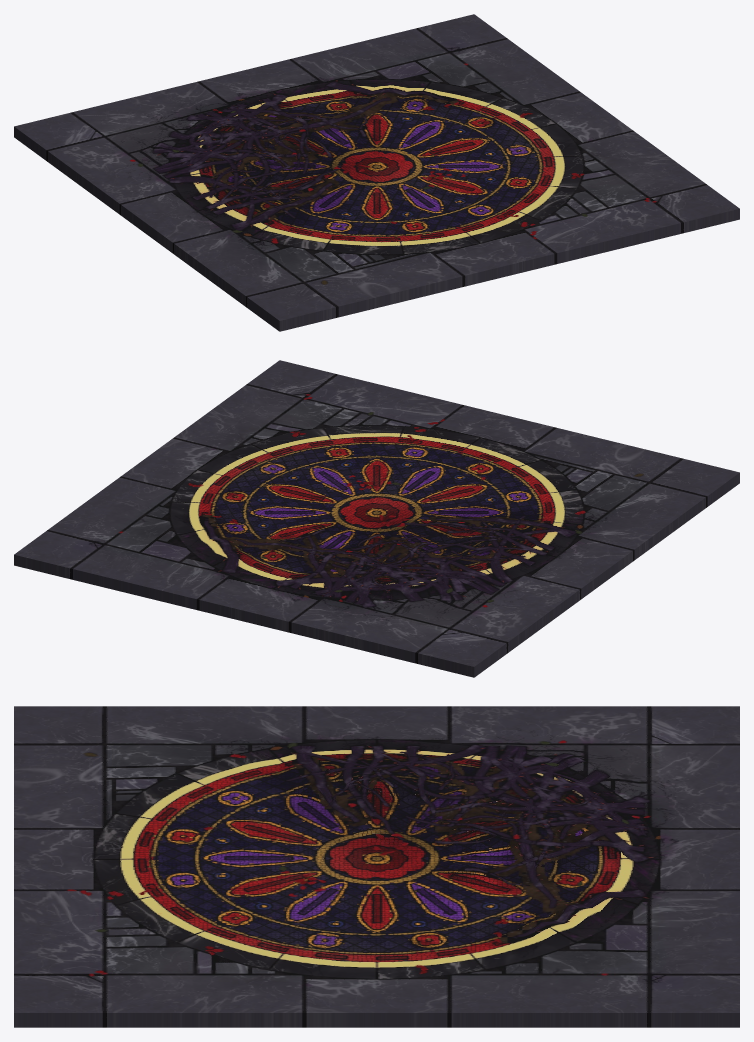
File: thorn_floor_c.glb
3 views of the same model, one above another, from view 1: azimuth 30°, elevation 25°; view 2: azimuth 150°, elevation 25°; view 3: azimuth 270°, elevation 25° (orthographic). The views are drawn at different scales.
Visible parts, largest first — view 1: thorn_floor_c; view 2: thorn_floor_c; view 3: thorn_floor_c.
Part boxes in pixels (x1,y1,x2,y2): thorn_floor_c: [14, 14, 739, 331]; thorn_floor_c: [14, 360, 739, 677]; thorn_floor_c: [14, 706, 739, 1027].
Size of the model in its own units: 4 by 0.14 by 4.
1 material, 1 textured.
